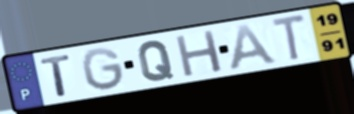A: (228, 22, 281, 72)
G: (79, 46, 127, 93)
H: (173, 28, 226, 80)
Q: (136, 39, 177, 83)
T: (269, 12, 309, 64), (38, 53, 74, 99)
